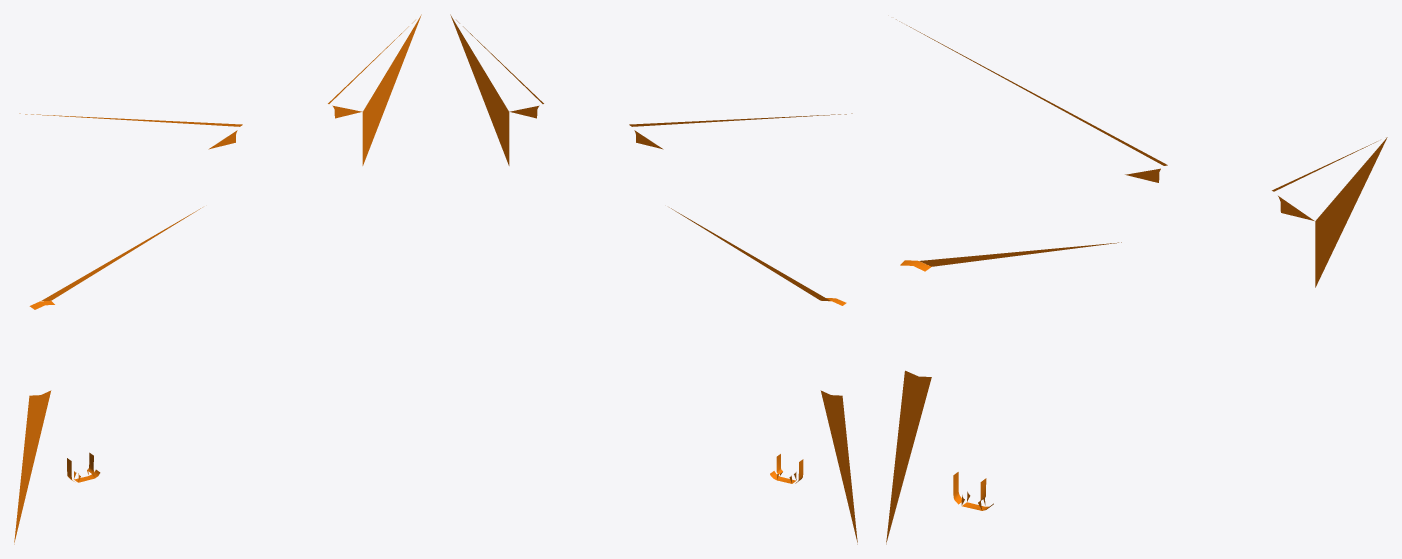
Rendered from KRC4_Robotersteuerschrank_Door_Rep.dae.
The picture shows the model from 3 angles, left to right: view 1: azimuth 30°, elevation 25°; view 2: azimuth 150°, elevation 25°; view 3: azimuth 330°, elevation 25°; orthographic projection. The views are drawn at different scales.
Parts seen in each view (by area): view 1: KRC4_Robotersteuerschrank_Door; view 2: KRC4_Robotersteuerschrank_Door; view 3: KRC4_Robotersteuerschrank_Door.
Part boxes in pixels (x1,y1,x2,y2): KRC4_Robotersteuerschrank_Door: (14, 14, 421, 544); KRC4_Robotersteuerschrank_Door: (450, 14, 857, 544); KRC4_Robotersteuerschrank_Door: (886, 19, 1387, 544).
Bounding box in the file's own units: 643 × 21.79 × 650.
